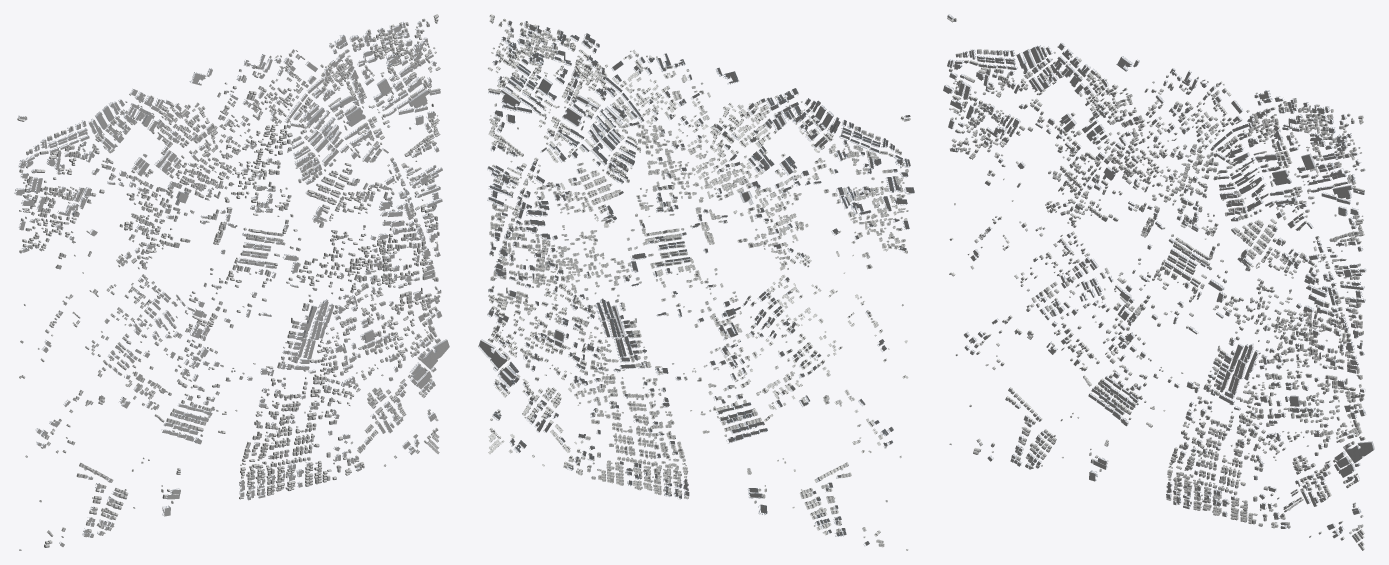
File: buildings_2_1.obj
The picture shows the model from 3 angles, left to right: view 1: azimuth 30°, elevation 25°; view 2: azimuth 150°, elevation 25°; view 3: azimuth 330°, elevation 25°; orthographic projection.
Size of the model in its own units: 2075 by 2025 by 27.28.
Materials: 5 (5 with a texture image).
